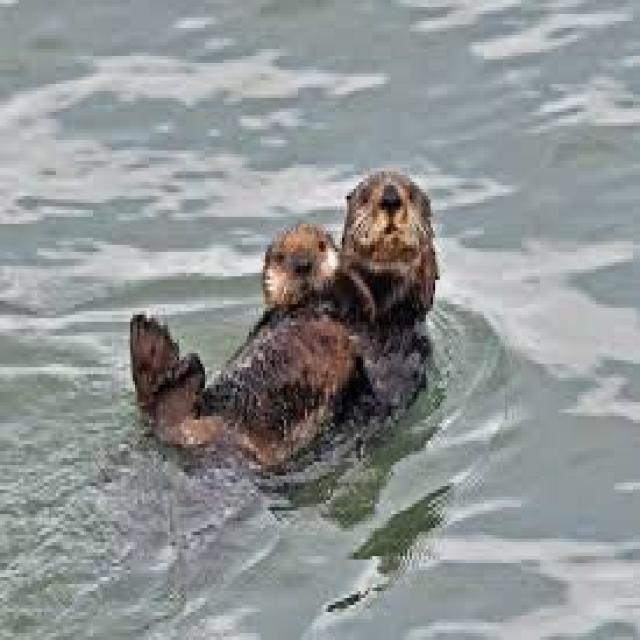Otter: (125, 158, 444, 486), (262, 215, 344, 320)
